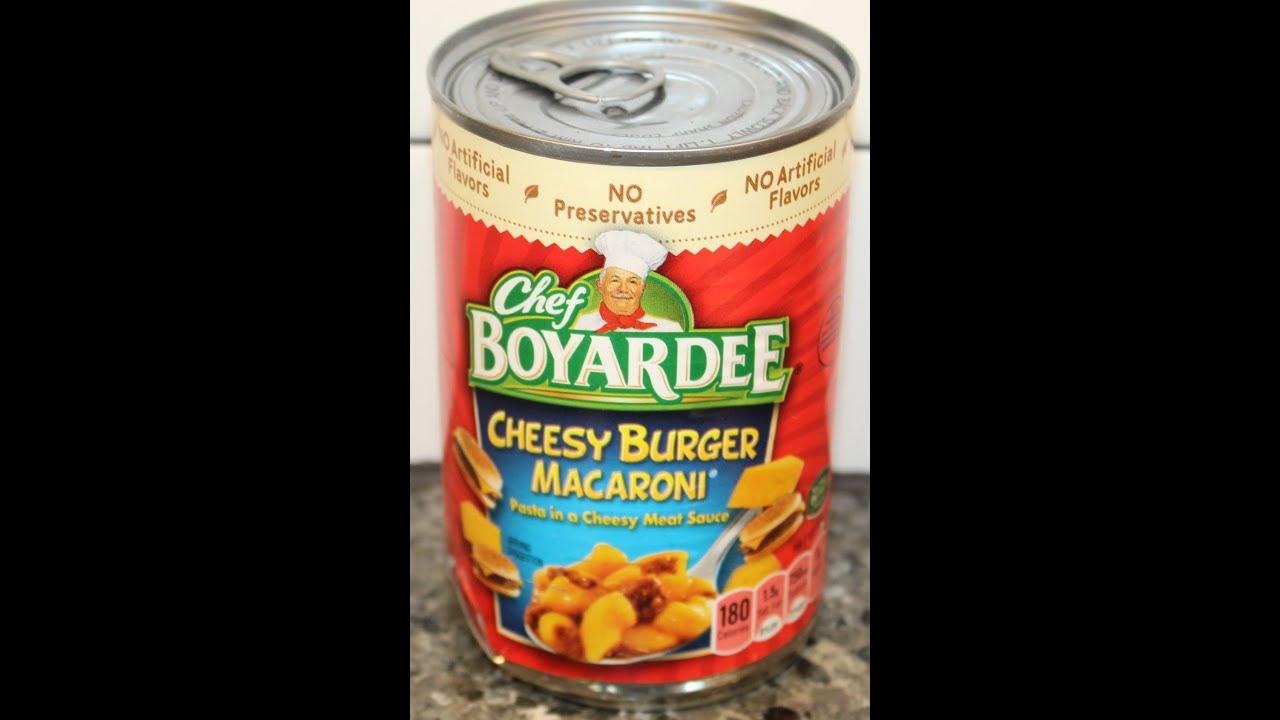metal: (429, 0, 859, 704)
